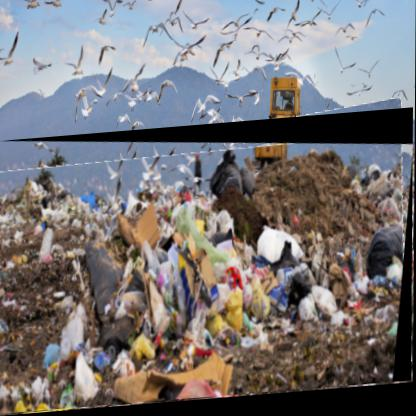Garbage: (1, 115, 415, 416)
